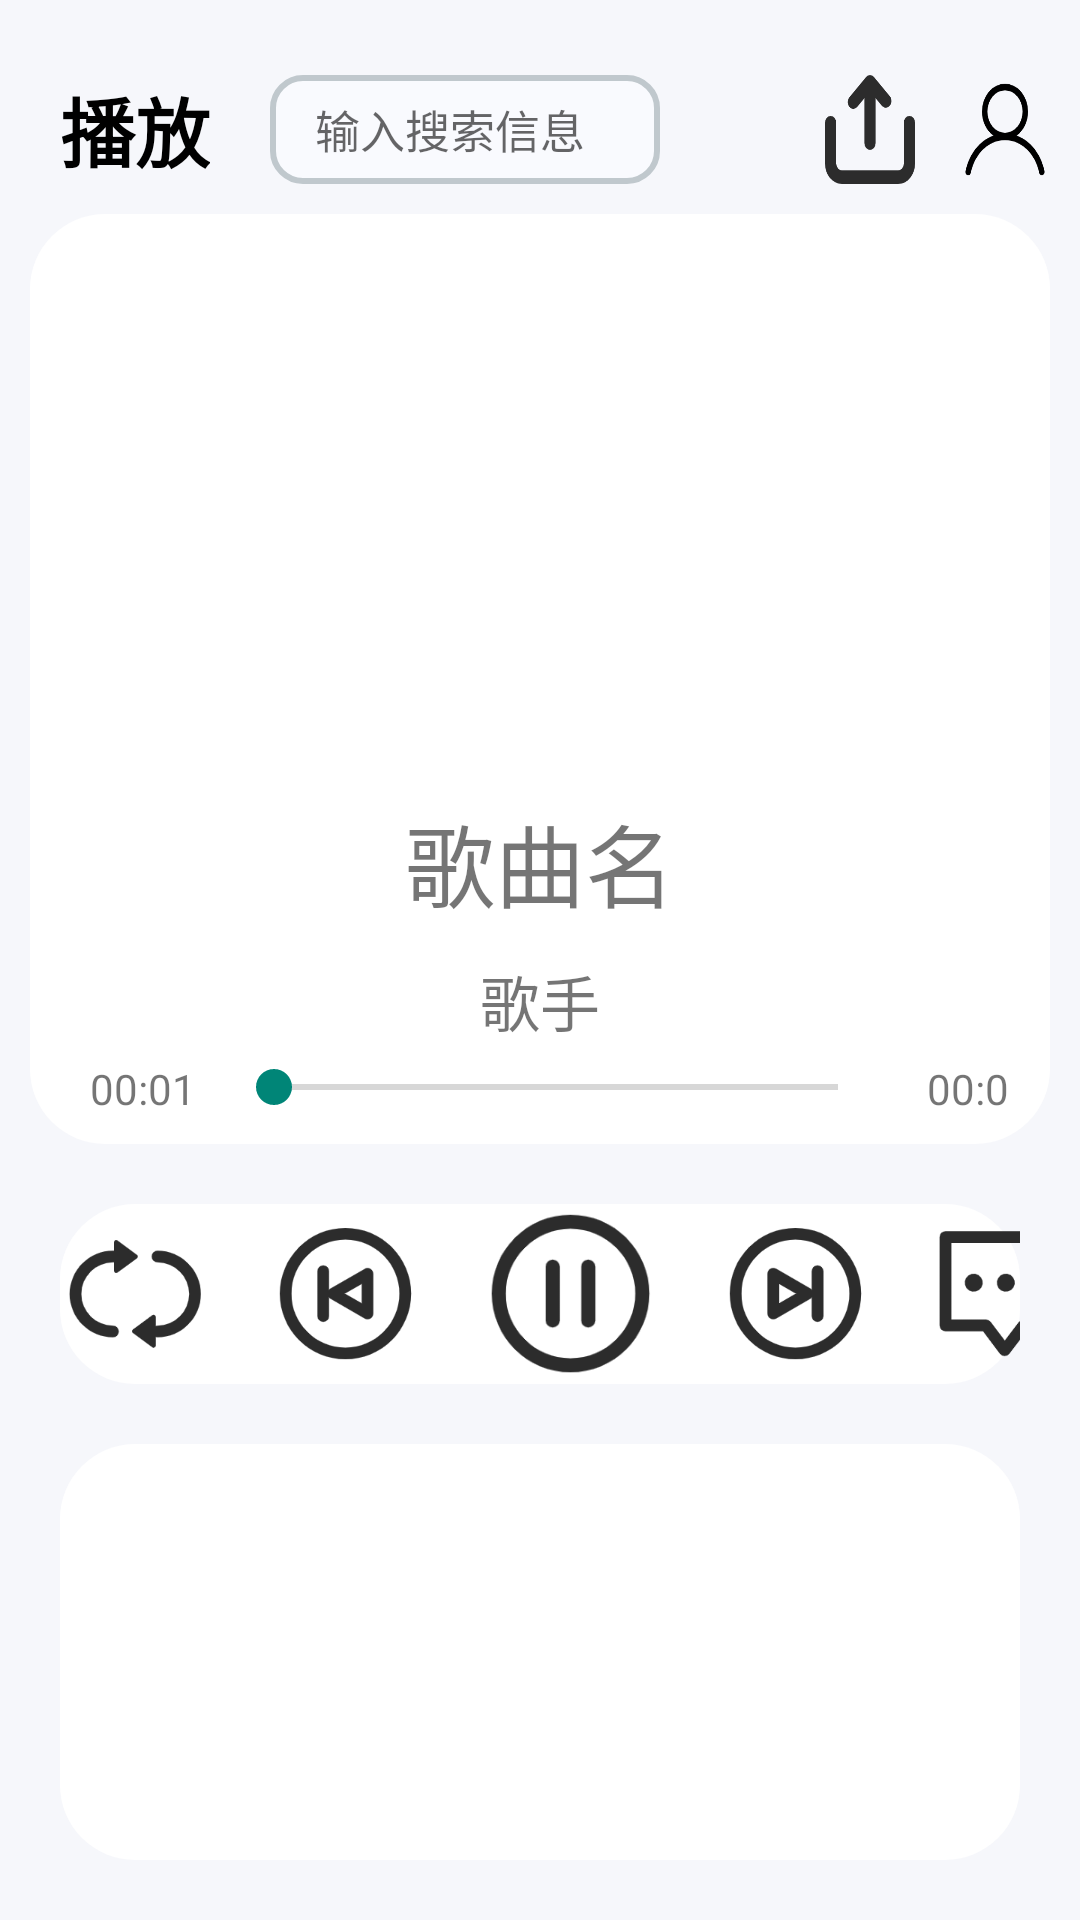

Where to tap for icons on this 1080px×1920px app screen, as point (x, y):
music mode list: point (135, 1294)
music next: point (795, 1294)
music play: point (570, 1293)
music pre: point (345, 1294)
upload: point (870, 129)
userpage: point (1005, 129)
